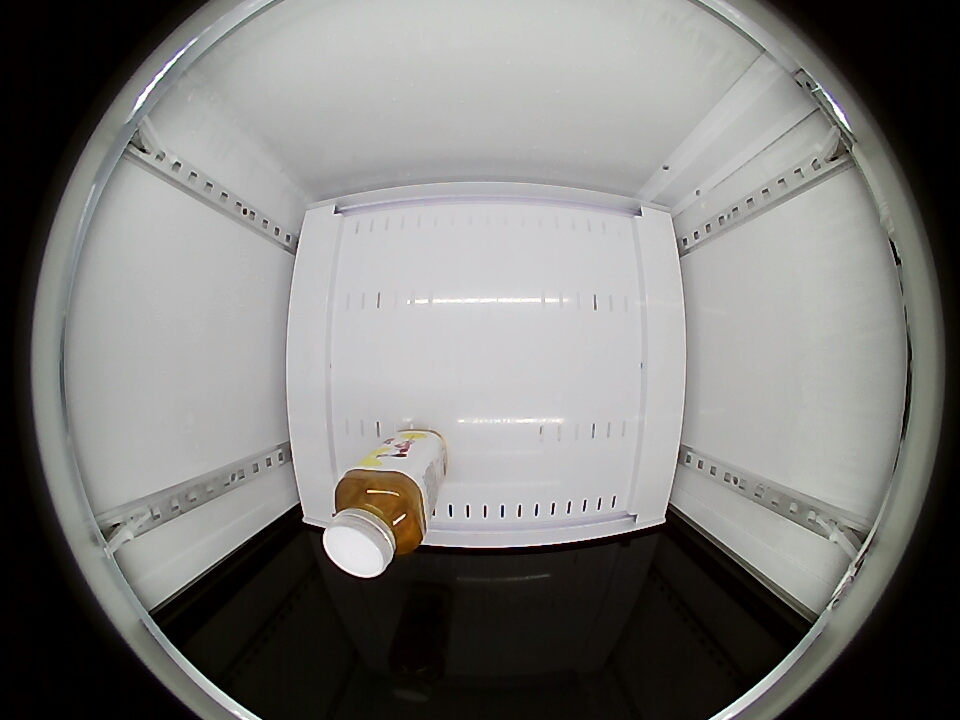chapai: (324, 465, 430, 578)
